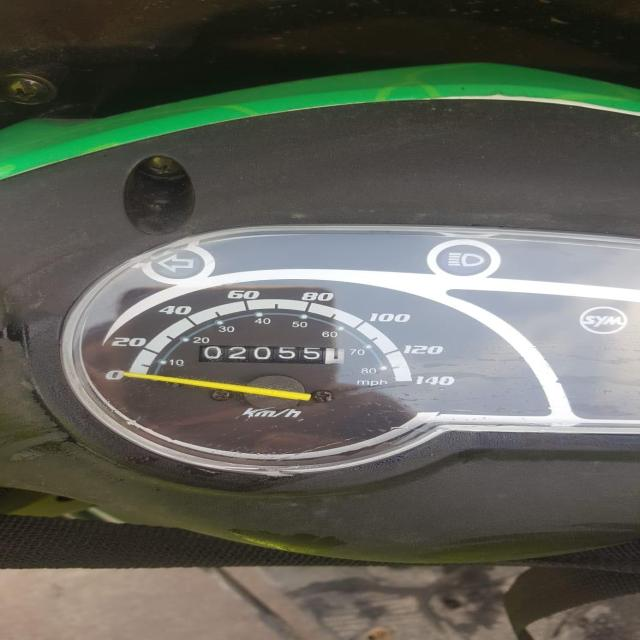odometer: (196, 344, 350, 366)
